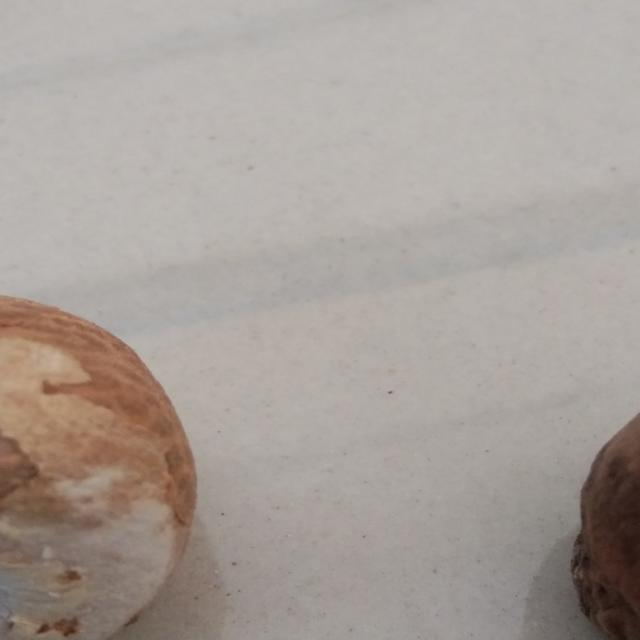phatora: (0, 268, 216, 640)
